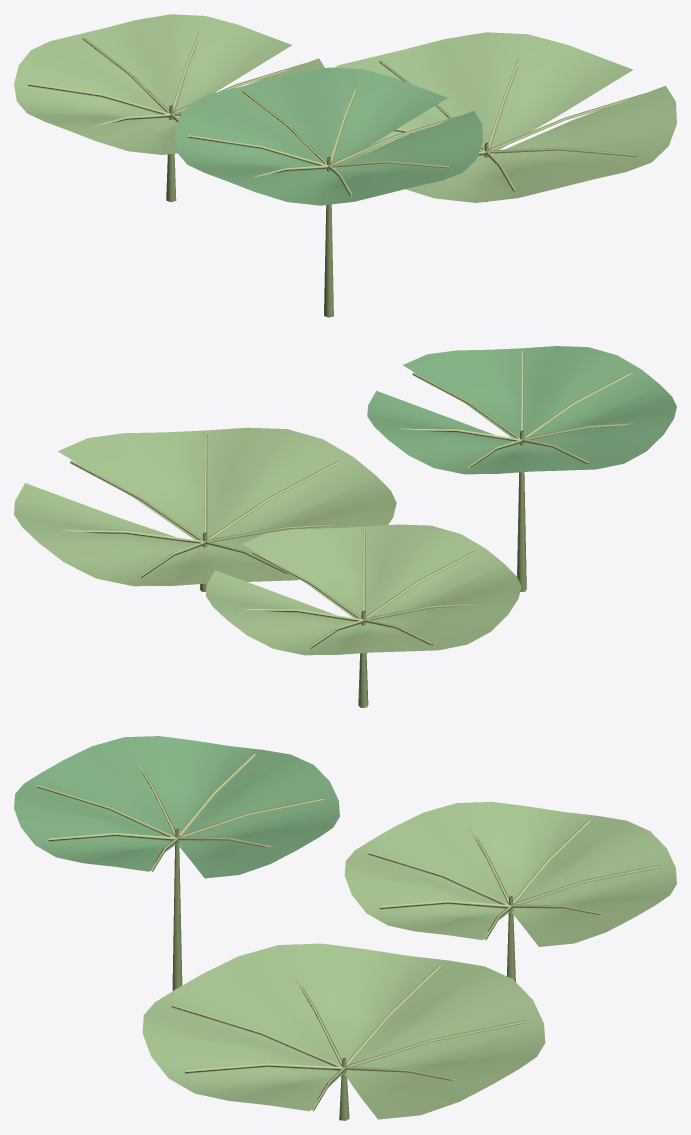
Rendered from lake_lotus_2.glb.
The picture shows the model from 3 angles, top to bottom: view 1: azimuth 30°, elevation 25°; view 2: azimuth 150°, elevation 25°; view 3: azimuth 270°, elevation 25°; orthographic projection. The views are drawn at different scales.
Parts seen in each view (by area): view 1: lake_lotus_2_LakeLeafLight, lake_lotus_2_LakeLeaf, lake_lotus_2_LakeVein, lake_lotus_2_LakeReed; view 2: lake_lotus_2_LakeLeafLight, lake_lotus_2_LakeLeaf, lake_lotus_2_LakeVein, lake_lotus_2_LakeReed; view 3: lake_lotus_2_LakeLeafLight, lake_lotus_2_LakeLeaf, lake_lotus_2_LakeVein, lake_lotus_2_LakeReed.
Part boxes in pixels (box(x1,y1,x2,y2)): lake_lotus_2_LakeLeafLight: box(14, 14, 676, 202); lake_lotus_2_LakeLeaf: box(174, 67, 482, 205); lake_lotus_2_LakeVein: box(28, 32, 644, 197); lake_lotus_2_LakeReed: box(166, 105, 488, 317); lake_lotus_2_LakeLeafLight: box(14, 427, 521, 655); lake_lotus_2_LakeLeaf: box(367, 346, 676, 474); lake_lotus_2_LakeVein: box(61, 350, 639, 649); lake_lotus_2_LakeReed: box(200, 430, 526, 707); lake_lotus_2_LakeLeafLight: box(142, 802, 676, 1119); lake_lotus_2_LakeLeaf: box(14, 736, 339, 878); lake_lotus_2_LakeVein: box(37, 753, 661, 1111); lake_lotus_2_LakeReed: box(172, 828, 515, 1120).
Size of the model in its own units: 1.63 by 0.5328 by 1.65.
